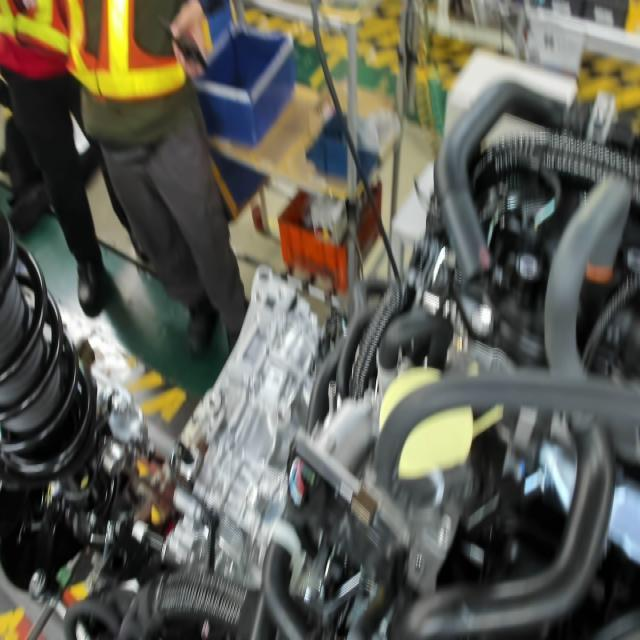Tube Sub Assy Fuel-W: (426, 466, 450, 514)
